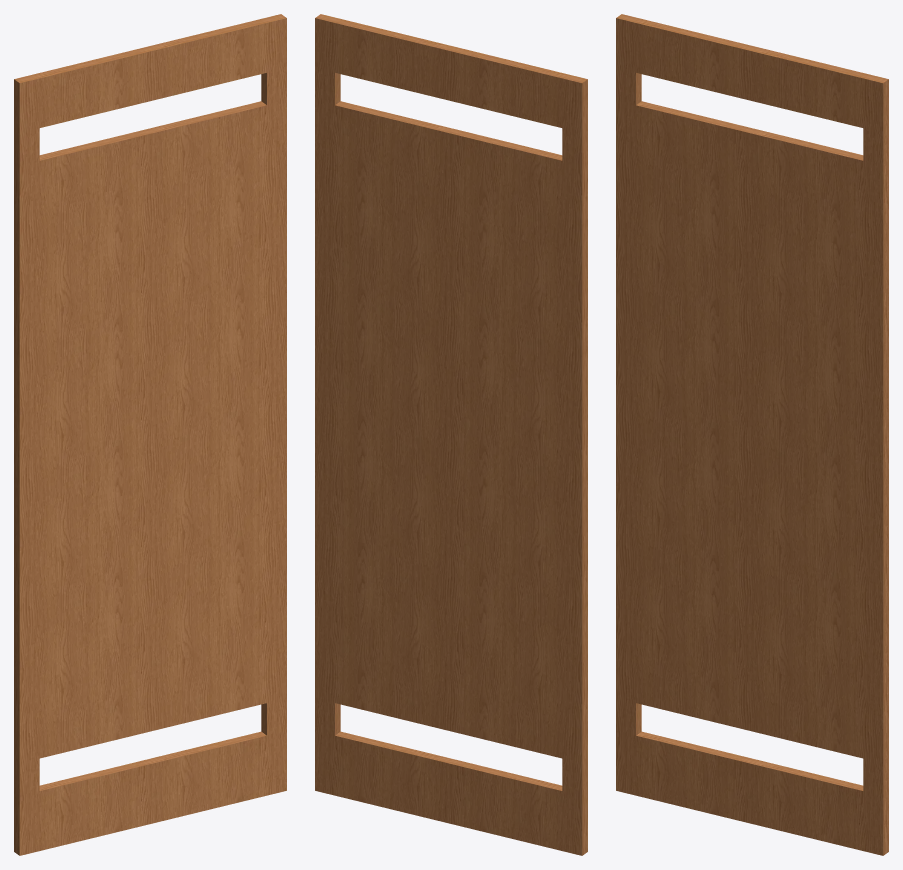
File: door.glb
3 renders of one model, left to right at view 1: azimuth 30°, elevation 25°; view 2: azimuth 150°, elevation 25°; view 3: azimuth 330°, elevation 25°, orthographic.
Size of the model in its own units: 0.55 by 1.52 by 0.02.
Materials: 2 (2 with a texture image).
